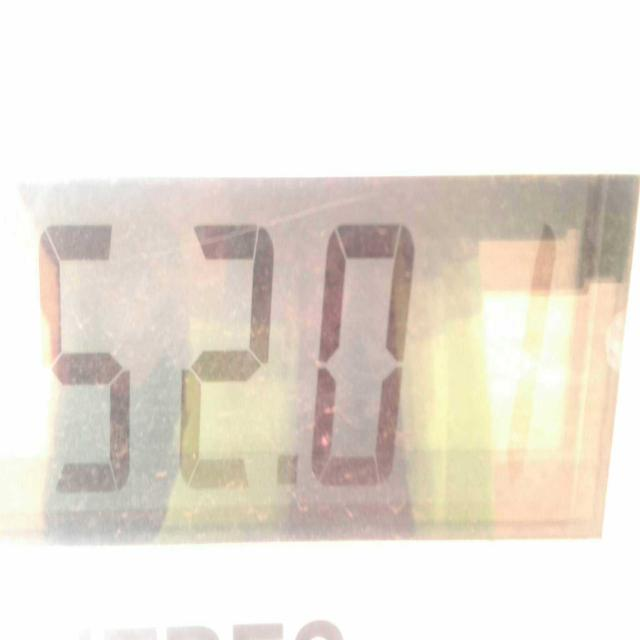.: (278, 453, 299, 490)
0: (312, 224, 413, 482)
1: (491, 220, 555, 499)
2: (181, 224, 271, 481)
5: (35, 227, 133, 493)
